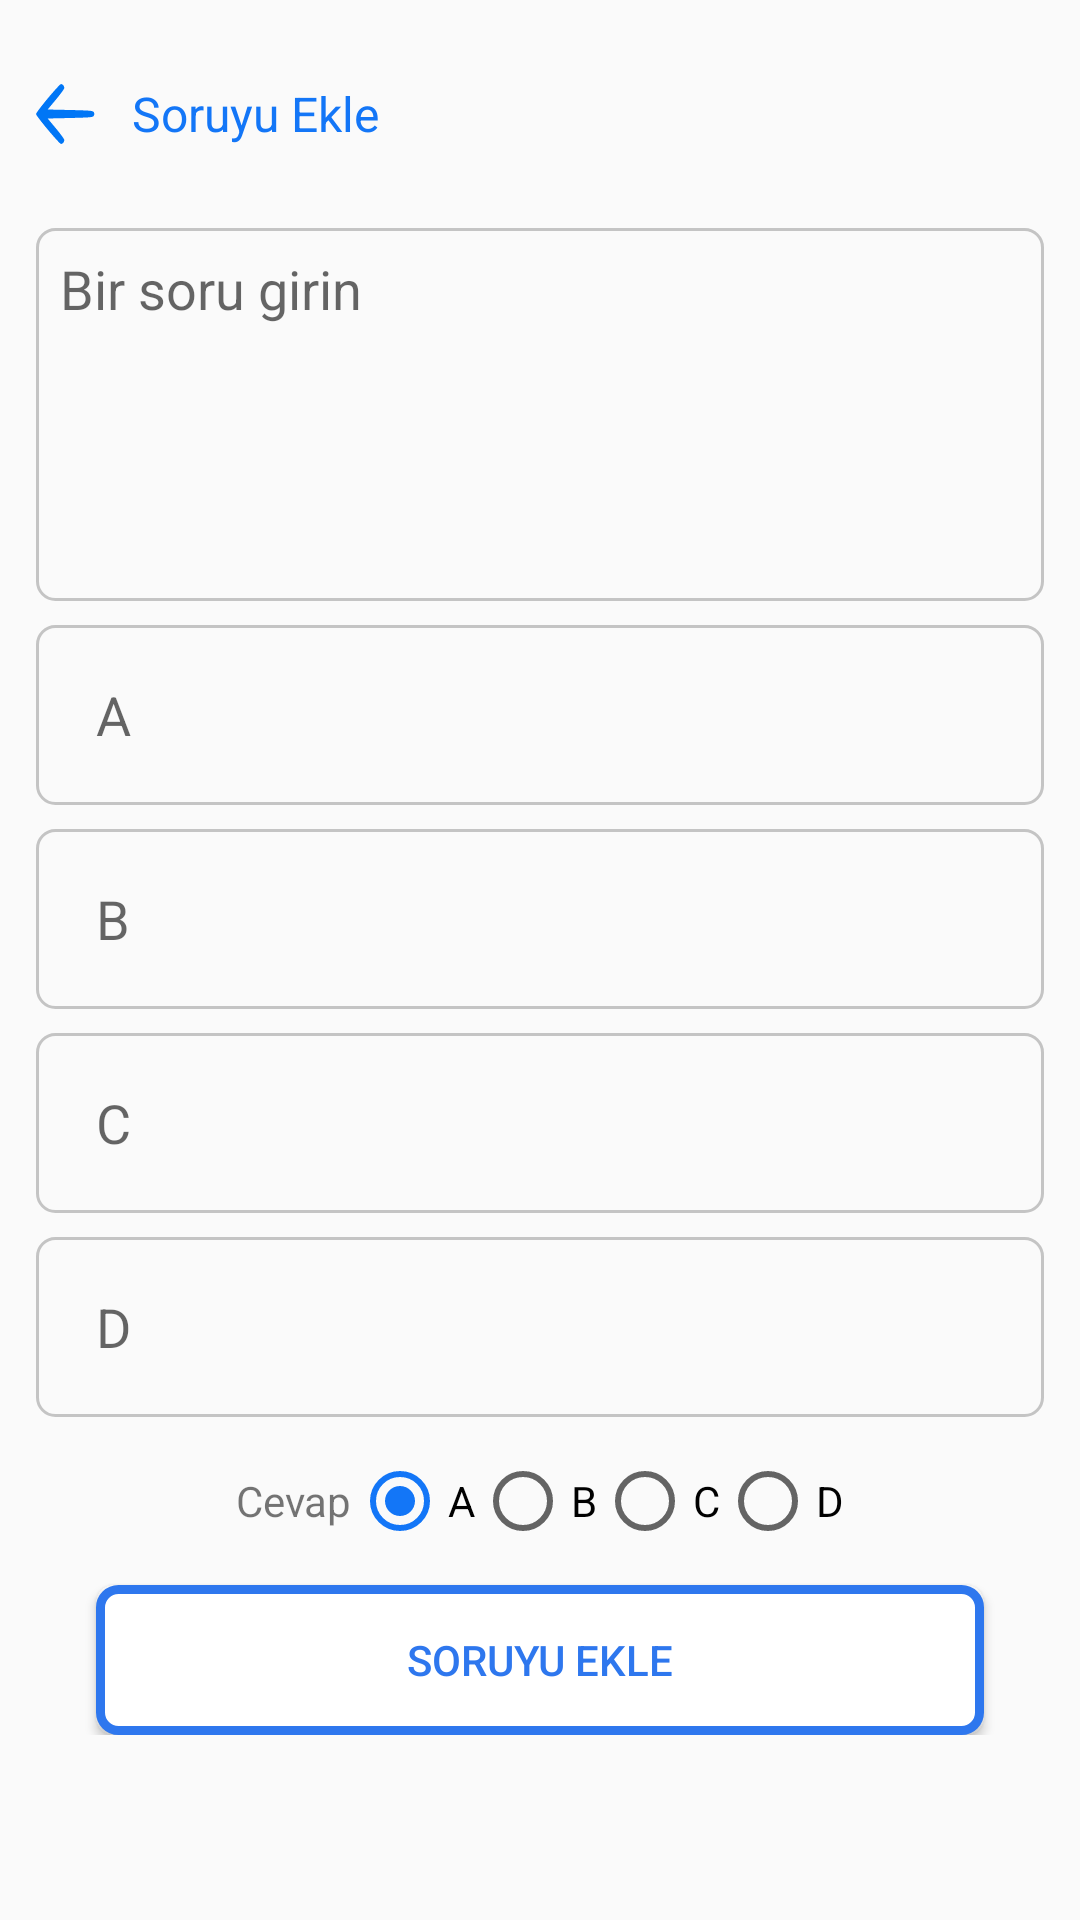

Named icons in this screenshot (1080w x 1920h) and their bounding boxes, [x1,y1,x2,y2]:
back: [36,84,95,144]
